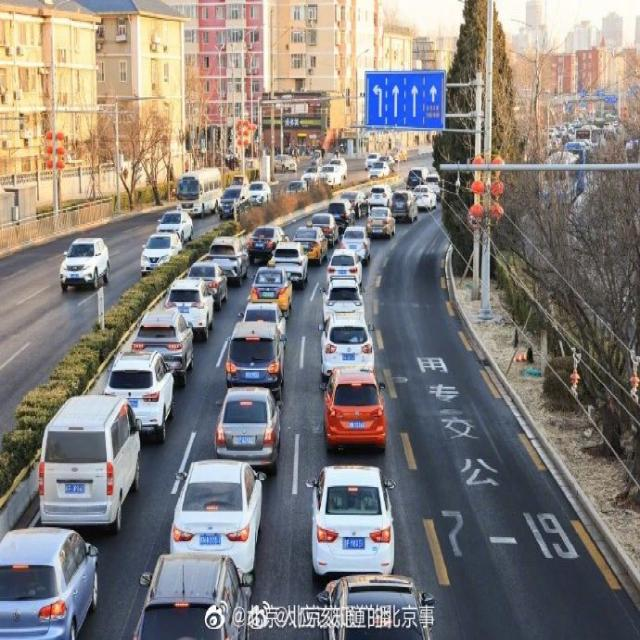point: (357, 109, 457, 239)
